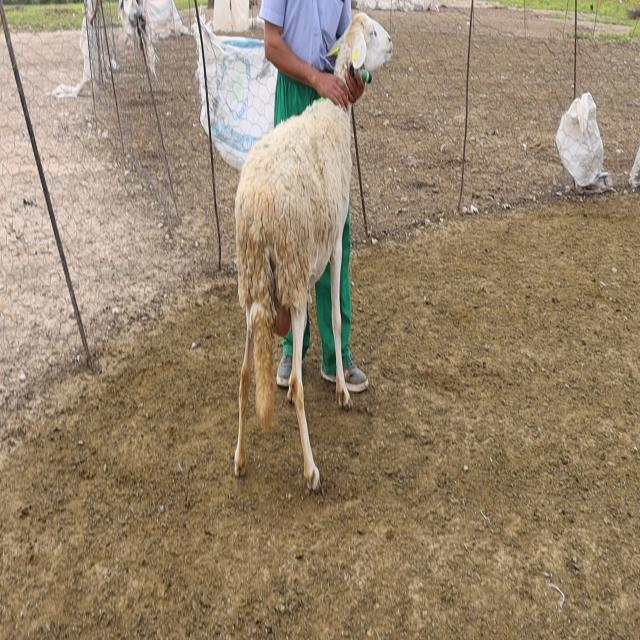Score_2: (234, 100, 362, 491)
